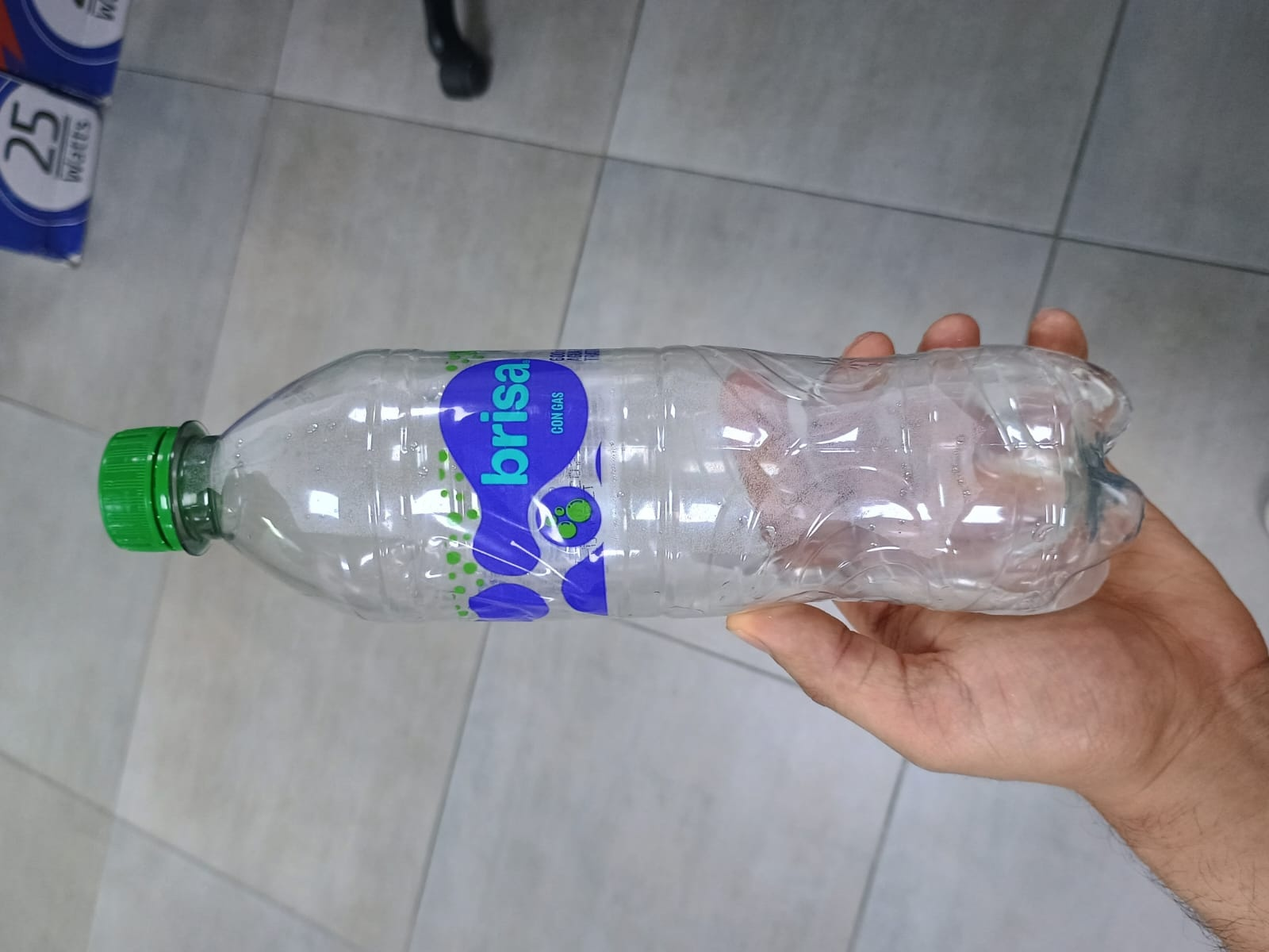Plastico: (100, 345, 1150, 625)
